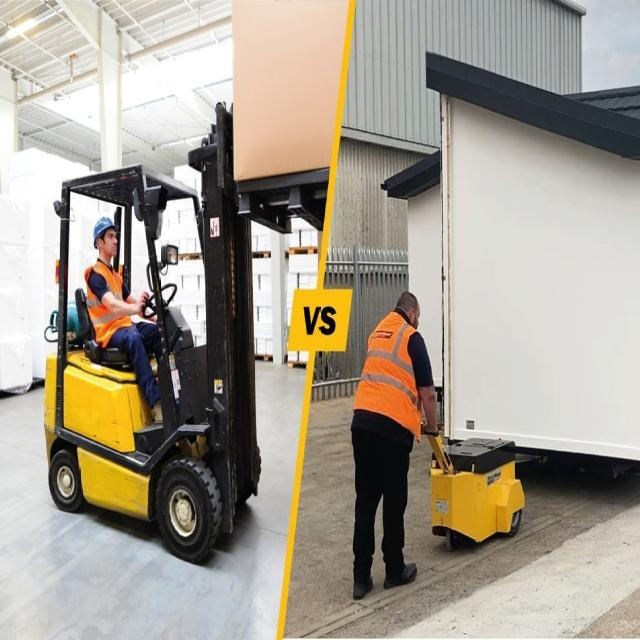driver: (80, 206, 173, 428)
forklift: (29, 124, 270, 582)
person: (353, 287, 432, 596)
